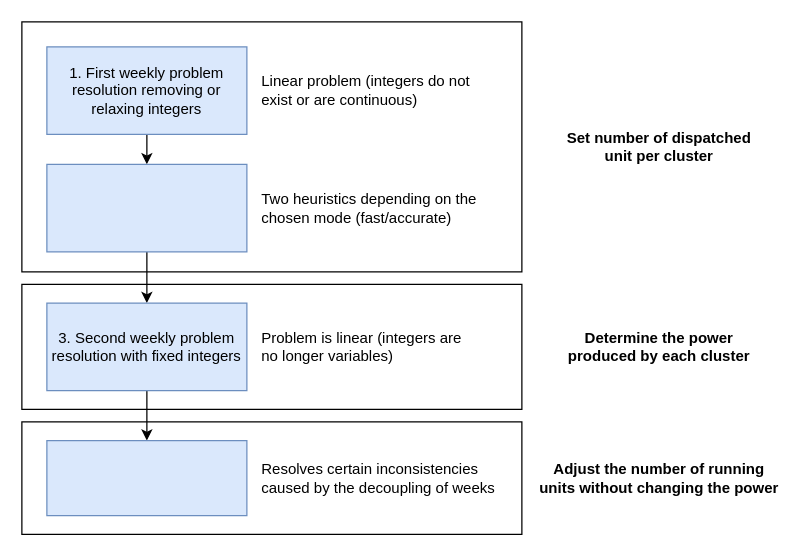
This 806x556 diagram has some shape labels left out. The shapes that lost their labels are listed below. From the top down, each one's box as (x1, y1, x2, y2) in pixels, then its label:
(46, 163, 247, 252): 2. Integer determination with a heuristic
(46, 439, 247, 516): 4. Final annual heuristic
